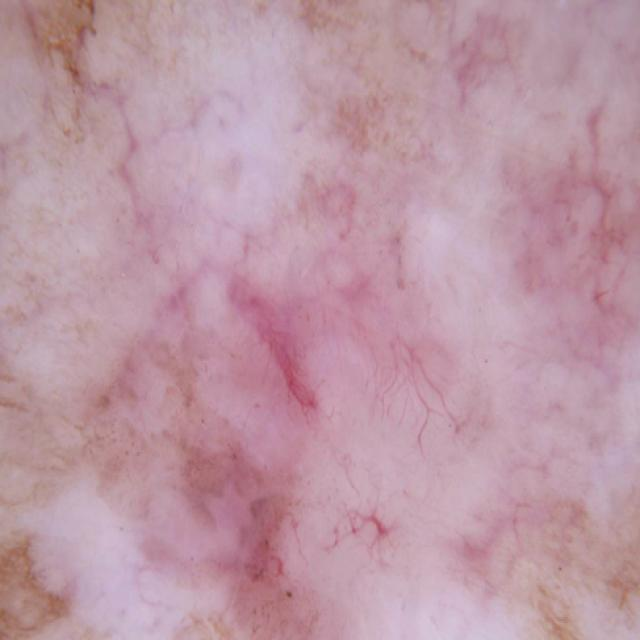Carcinoma: (114, 228, 431, 640)
